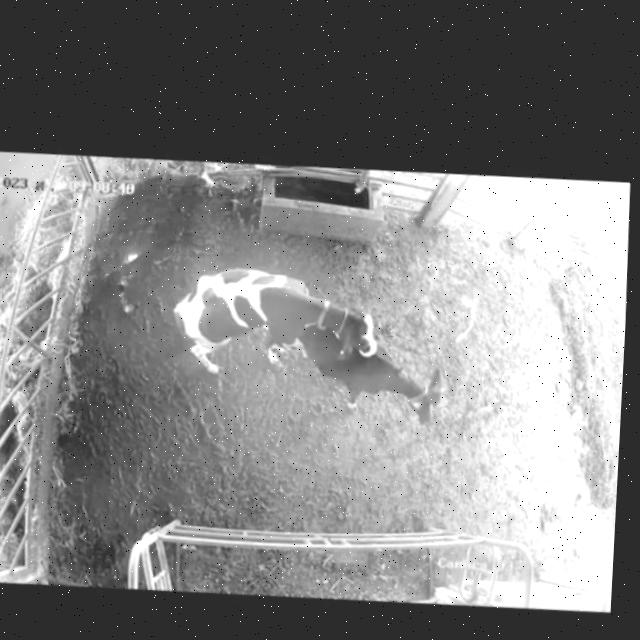ride: (159, 253, 386, 399)
stand: (298, 315, 456, 436)
